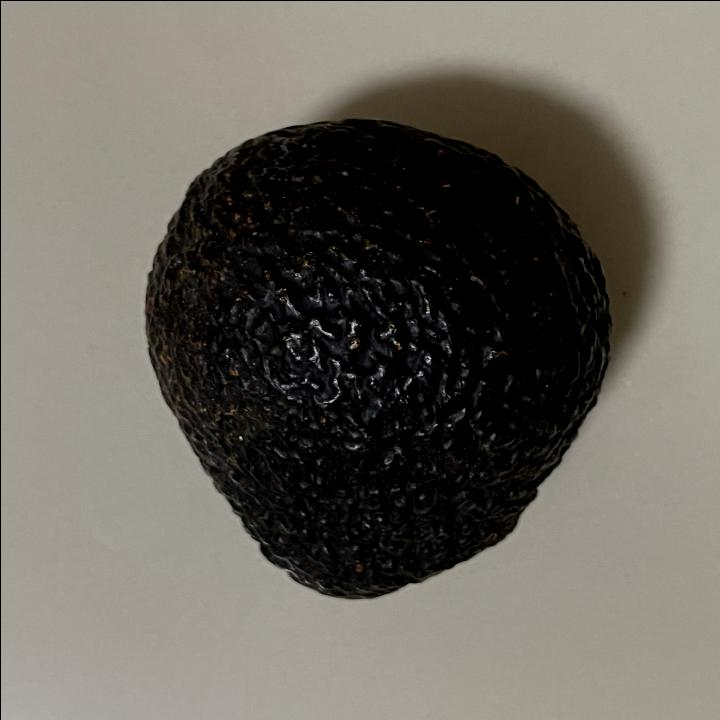Level2: (137, 112, 618, 604)
